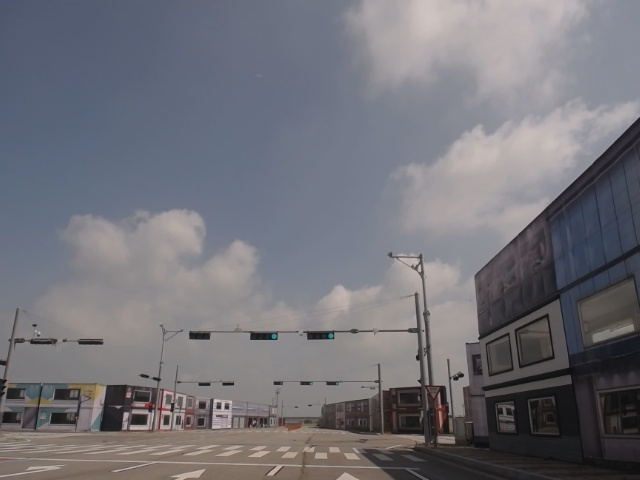straight_green_4: (250, 332, 278, 340), (307, 333, 335, 340)
